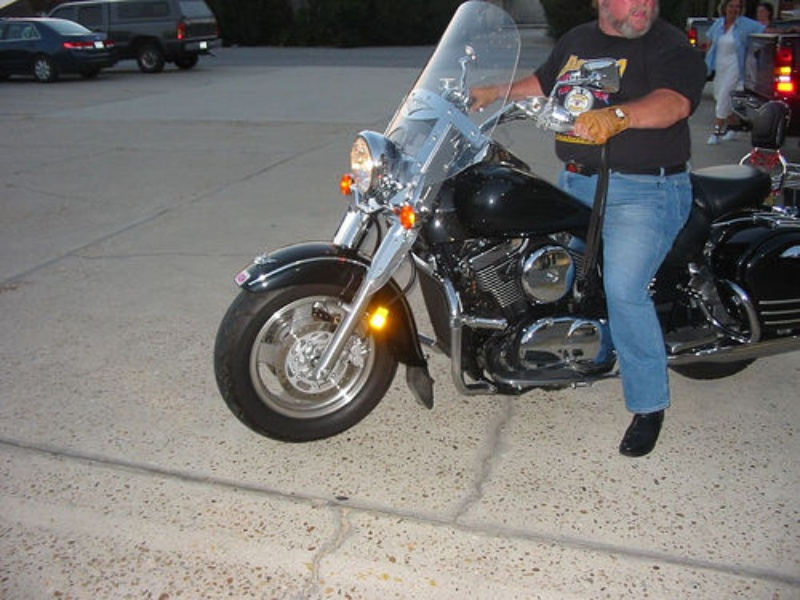car: (45, 1, 219, 72), (1, 16, 118, 82), (731, 32, 800, 132)
person: (467, 1, 708, 458), (704, 1, 768, 146)
